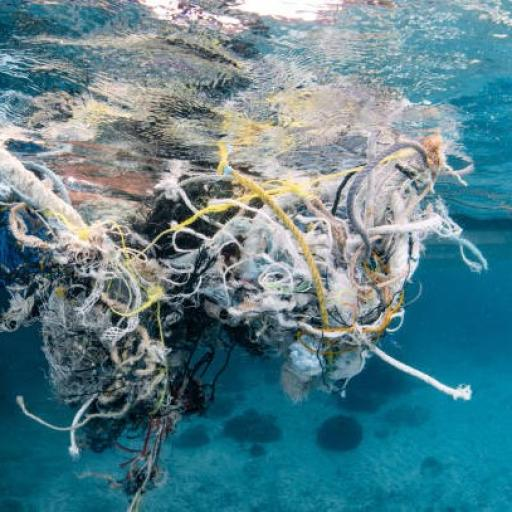net: (4, 145, 471, 454)
